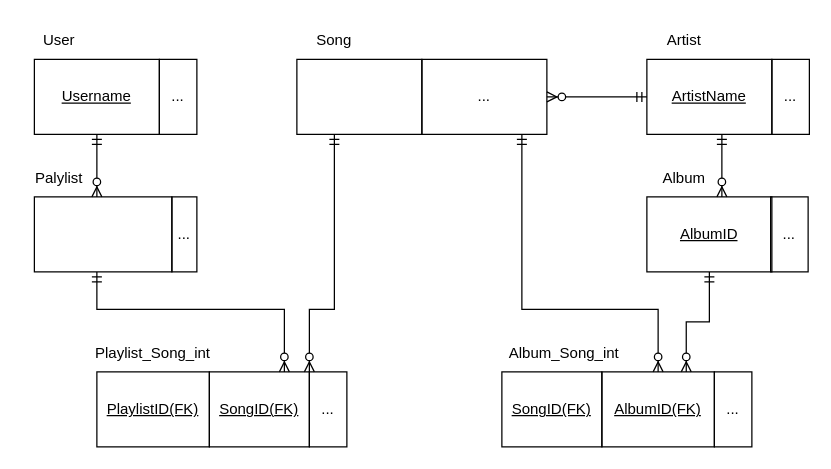
Image size: 831x469. Some labels were removed from this diagram. Each missing label, with the centre of its shape:
"PlaylistID" belongs at pixel 102 234.
"SongID()" belongs at pixel 359 96.
